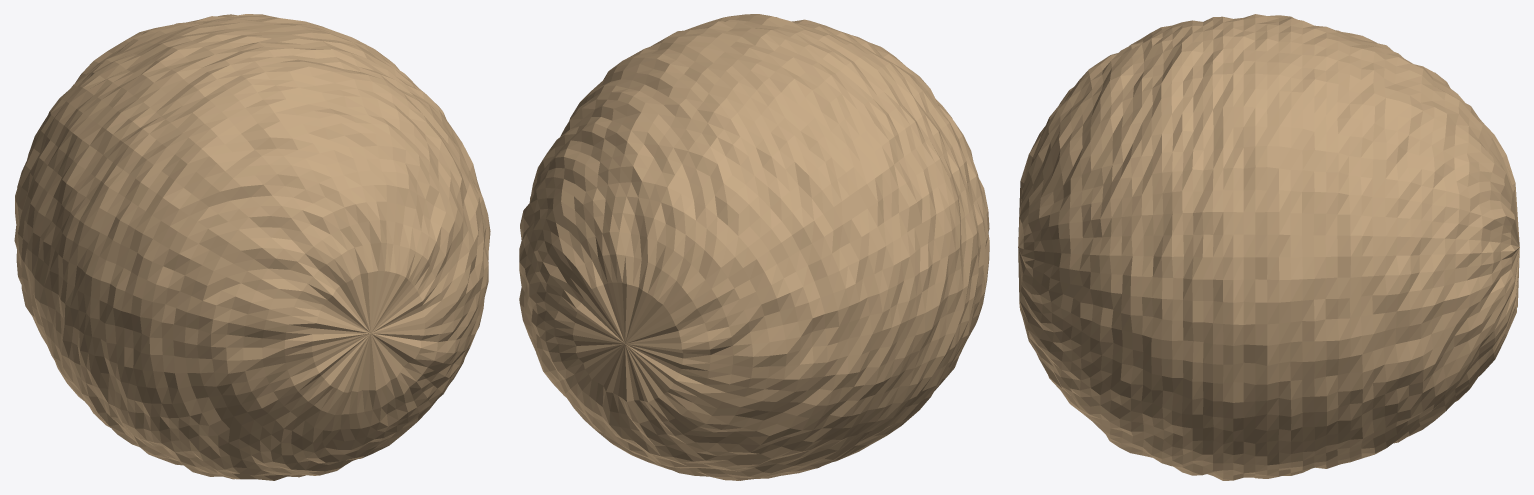
3 renders of one model, left to right at view 1: azimuth 30°, elevation 25°; view 2: azimuth 150°, elevation 25°; view 3: azimuth 270°, elevation 25°, orthographic.
Parts seen in each view (by area): view 1: world; view 2: world; view 3: world.
Boxes of the visible parts, x1,y1,x2,y2 form: world: (14, 14, 490, 480); world: (519, 14, 989, 480); world: (1018, 14, 1519, 480).
Bounding box in the file's own units: 0.0172 × 0.0172 × 0.0185.
